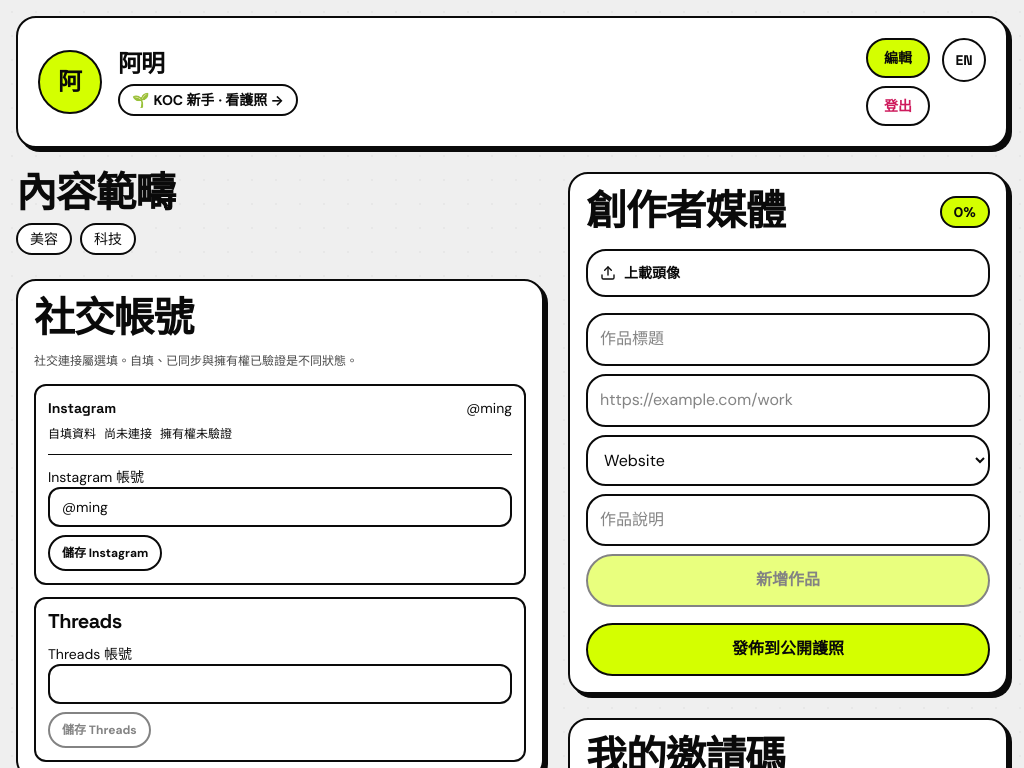
Test: Profile page › locks edited input while the profile write is pending
Click the button "編輯" at (898, 58), box [866,38,930,78]
(page scrolled)
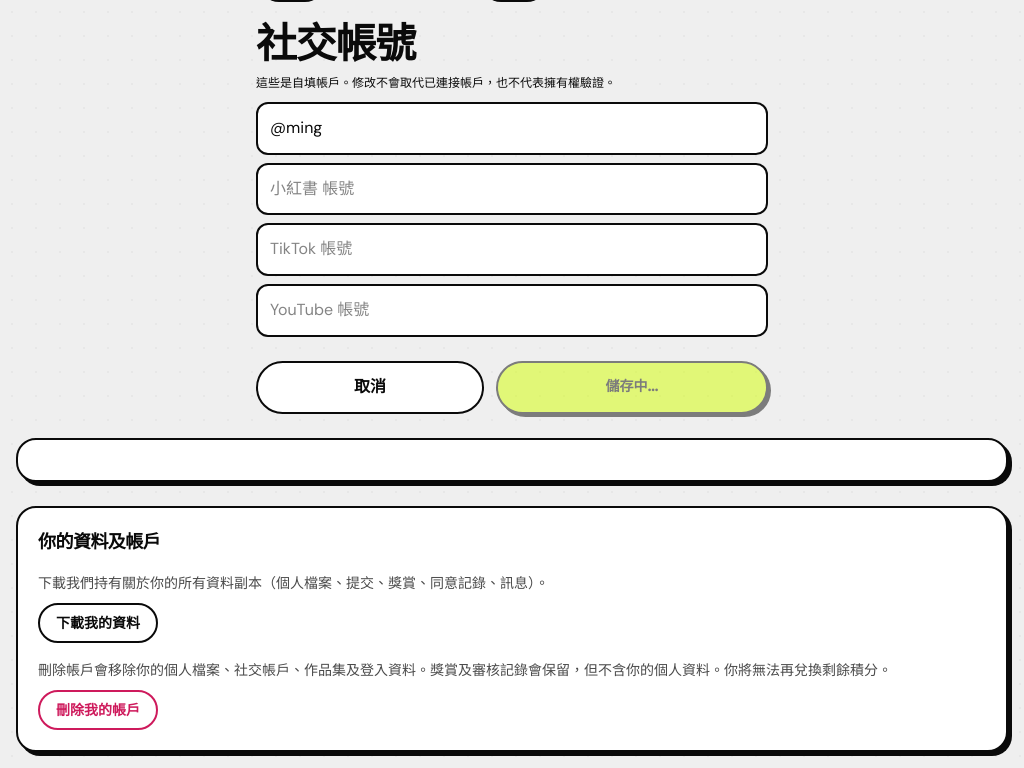
Expected: the button "取消" is disabled, [256,361,484,414]
